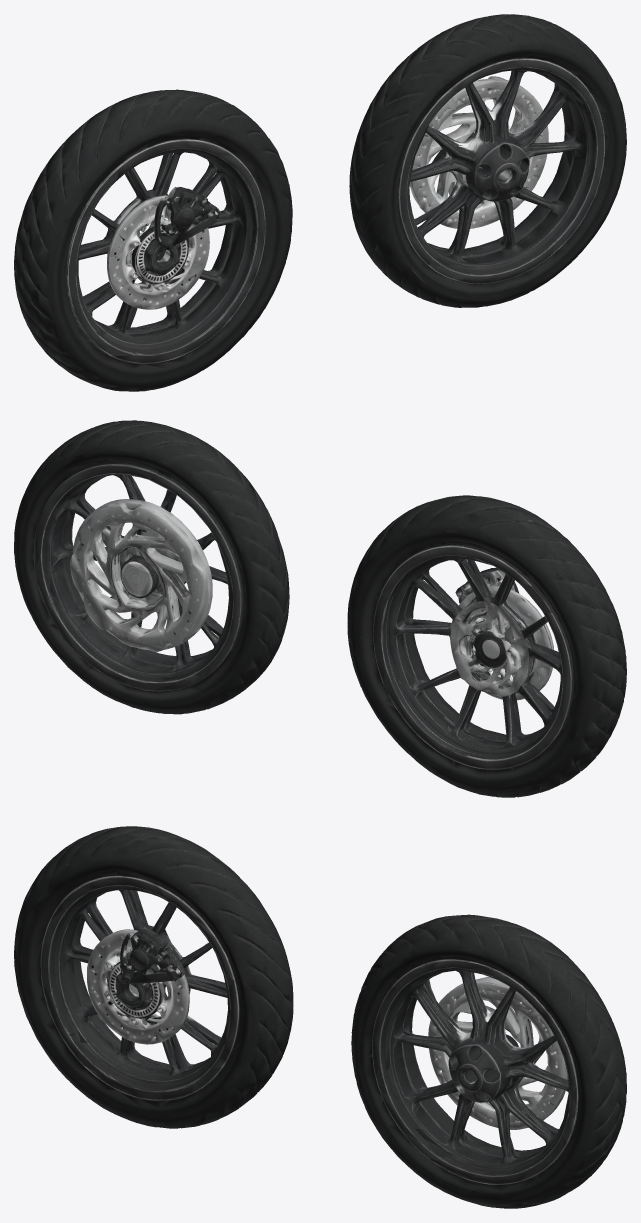
Rendered from 3_wheels.glb.
3 renders of one model, top to bottom at view 1: azimuth 30°, elevation 25°; view 2: azimuth 150°, elevation 25°; view 3: azimuth 330°, elevation 25°, orthographic.
Visible parts, largest first — view 1: Mesh_0; view 2: Mesh_0; view 3: Mesh_0.
Part boxes in pixels (x1,y1,x2,y2): Mesh_0: (14, 14, 626, 391); Mesh_0: (14, 420, 626, 797); Mesh_0: (14, 826, 626, 1208).
Bounding box in the file's own units: 1.3 × 0.6 × 0.1567.
1 material, 1 textured.
